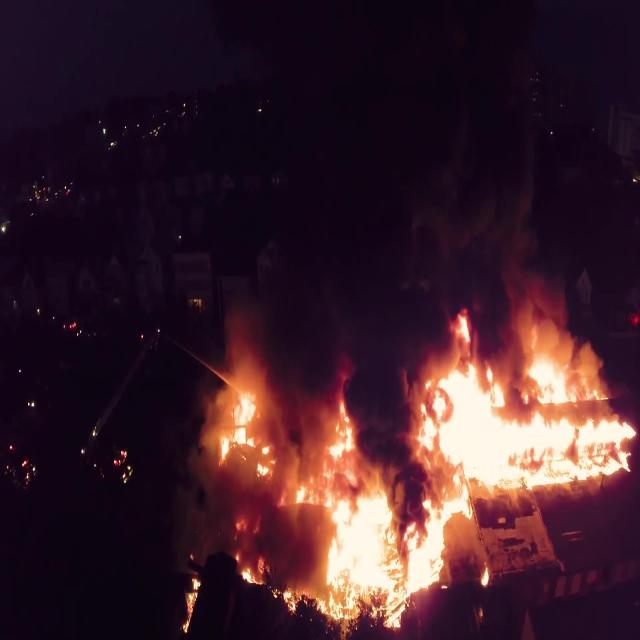Fire: (215, 320, 637, 632)
Smoke: (225, 152, 591, 352)
